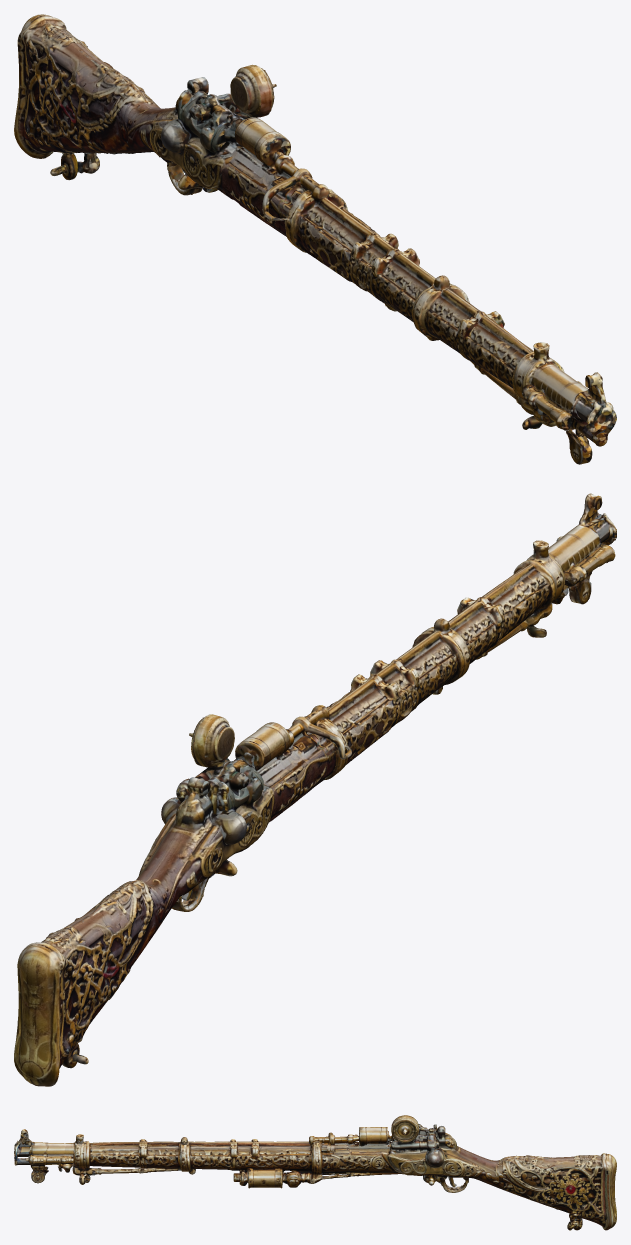
The model's file is NMJ_SteamRifle.fbx.
3 views of the same model, one above another, from view 1: azimuth 30°, elevation 25°; view 2: azimuth 150°, elevation 25°; view 3: azimuth 270°, elevation 25° (orthographic). The views are drawn at different scales.
Visible parts, largest first — view 1: NMJ_SteamRifle_LOD0; view 2: NMJ_SteamRifle_LOD0; view 3: NMJ_SteamRifle_LOD0.
Part boxes in pixels (x1,y1,x2,y2): NMJ_SteamRifle_LOD0: (14,14,616,464); NMJ_SteamRifle_LOD0: (14,493,616,1086); NMJ_SteamRifle_LOD0: (14,1115,616,1230).
Size of what is drawn, in the model's own units: 0.1076 by 0.2718 by 1.25.
Materials: 1 (1 with a texture image).
